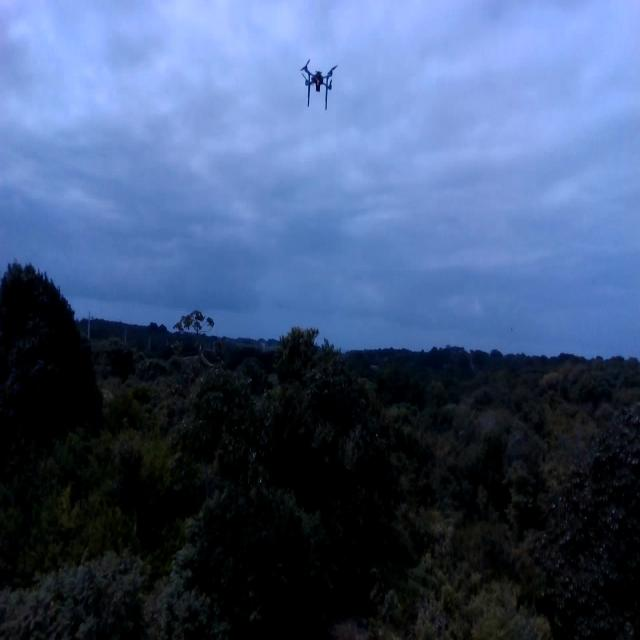-uav-: (296, 44, 347, 129)
